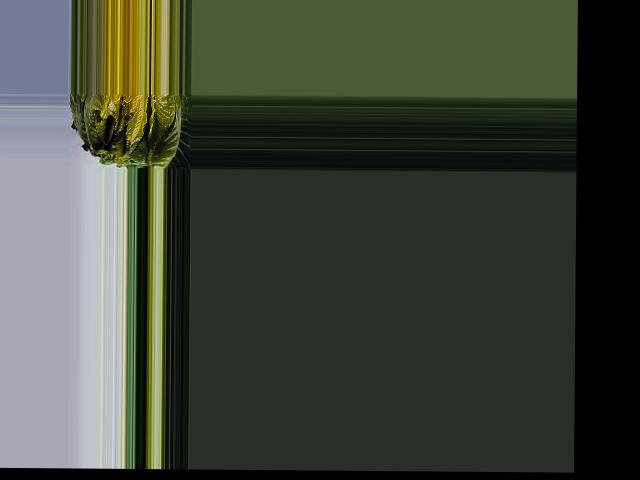lettuce: (73, 92, 191, 166)
